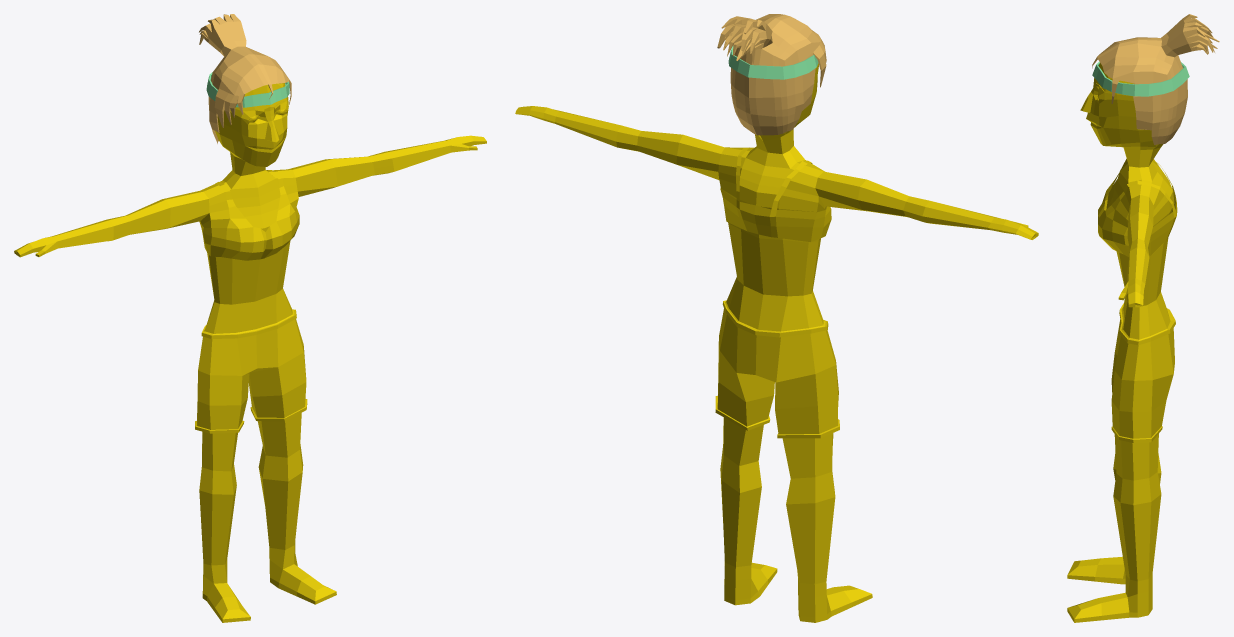
File: Character1.fbx
3 views of the same model, side by side, from view 1: azimuth 30°, elevation 25°; view 2: azimuth 150°, elevation 25°; view 3: azimuth 270°, elevation 25° (orthographic). The views are drawn at different scales.
Visible parts, largest first — view 1: Body, Hair, HairBand; view 2: Body, Hair, HairBand; view 3: Body, Hair, HairBand.
Part boxes in pixels (bbox=[...]): Body: bbox=[14, 83, 486, 622]; Hair: bbox=[199, 14, 291, 143]; HairBand: bbox=[206, 72, 289, 107]; Body: bbox=[515, 63, 1038, 622]; Hair: bbox=[717, 14, 826, 135]; HairBand: bbox=[728, 45, 818, 79]; Body: bbox=[1067, 63, 1177, 622]; Hair: bbox=[1092, 14, 1219, 144]; HairBand: bbox=[1092, 61, 1189, 96].
Size of the model in its own units: 572 by 647 by 155.
